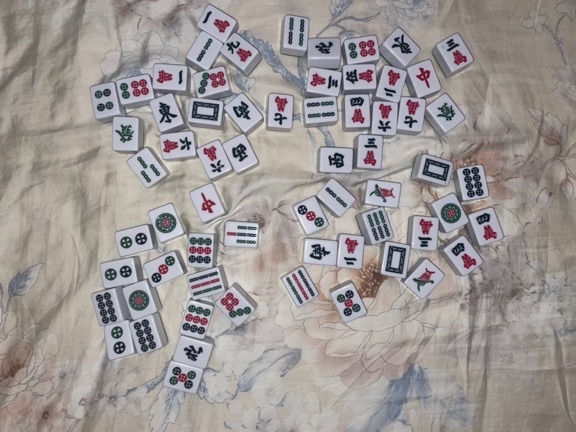b-1: (412, 267, 436, 292), (369, 182, 396, 204)
b-2: (325, 185, 348, 210), (196, 38, 214, 62)
b-3: (136, 156, 160, 182)
b-4: (287, 16, 305, 47), (306, 101, 336, 119)
b-6: (366, 210, 391, 241)
b-7: (226, 224, 257, 246)
b-9: (285, 269, 316, 305), (188, 270, 223, 297)
c-1: (201, 10, 230, 35), (155, 68, 184, 85)
c-2: (382, 68, 402, 98), (342, 236, 359, 267)
c-3: (444, 37, 469, 65), (310, 70, 338, 90), (416, 218, 435, 247), (363, 137, 378, 167)
c-4: (451, 243, 477, 270), (475, 213, 499, 241), (350, 97, 365, 124)
c-5: (345, 68, 375, 84)
c-6: (203, 145, 225, 174), (377, 103, 394, 134), (163, 136, 192, 154)
c-7: (403, 98, 421, 129), (272, 95, 289, 125)
c-9: (226, 40, 253, 63)
d-1: (154, 211, 177, 235), (127, 289, 151, 311), (440, 203, 462, 224)
d-2: (109, 326, 127, 355), (104, 265, 133, 281), (120, 232, 147, 249)
d-3: (298, 204, 325, 229), (151, 256, 176, 283)
d-4: (93, 87, 113, 112)
d-5: (336, 289, 362, 318), (168, 366, 196, 390)
d-6: (119, 78, 150, 100), (348, 39, 376, 60)
d-7: (220, 292, 253, 319), (197, 71, 226, 94)
d-8: (94, 291, 119, 325), (461, 166, 485, 198), (134, 319, 157, 352)
d-9: (181, 304, 212, 336), (188, 236, 212, 265)
honors-east: (390, 33, 413, 57), (157, 101, 179, 126)
honors-green: (435, 100, 457, 123), (114, 122, 135, 144)
honors-north: (182, 342, 205, 364), (314, 40, 334, 56)
honors-red: (198, 191, 217, 214), (415, 66, 433, 90)
honors-south: (309, 242, 332, 261), (232, 100, 252, 121)
honors-west: (229, 141, 250, 162), (327, 150, 345, 169)
honors-white: (422, 157, 451, 182), (191, 100, 221, 123), (384, 245, 407, 275)
